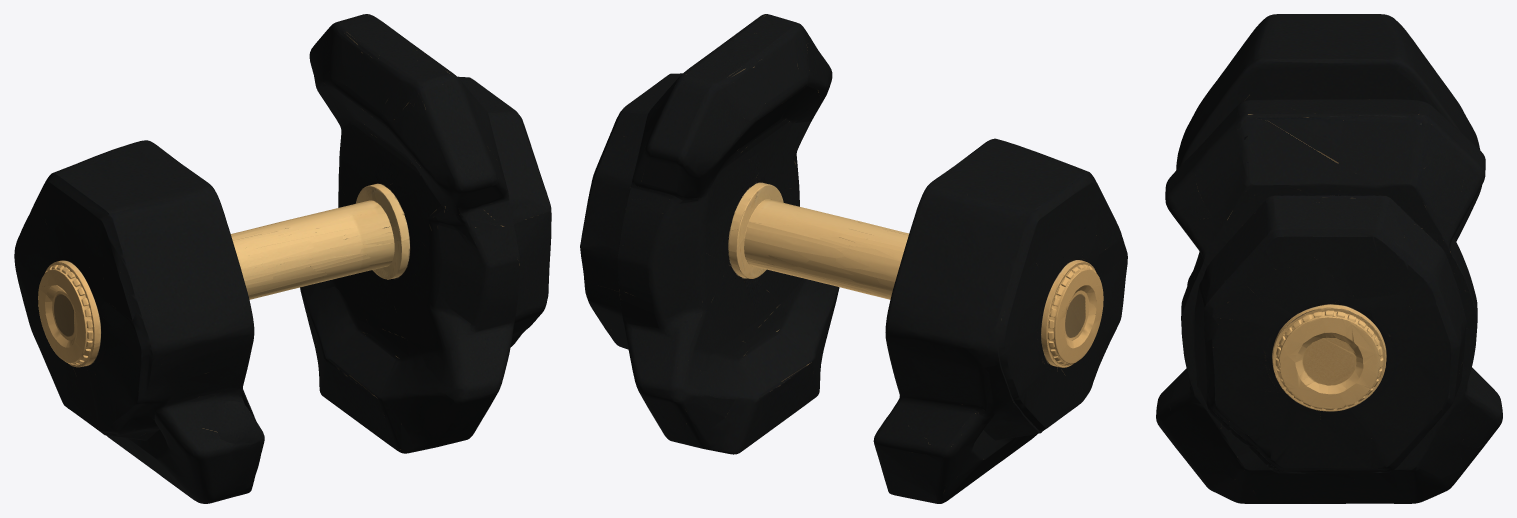
File: mancuerna.glb
3 views of the same model, side by side, from view 1: azimuth 30°, elevation 25°; view 2: azimuth 150°, elevation 25°; view 3: azimuth 270°, elevation 25° (orthographic). The views are drawn at different scales.
Size of the model in its own units: 1.9 by 1.49 by 1.2.
1 material, 1 textured.
